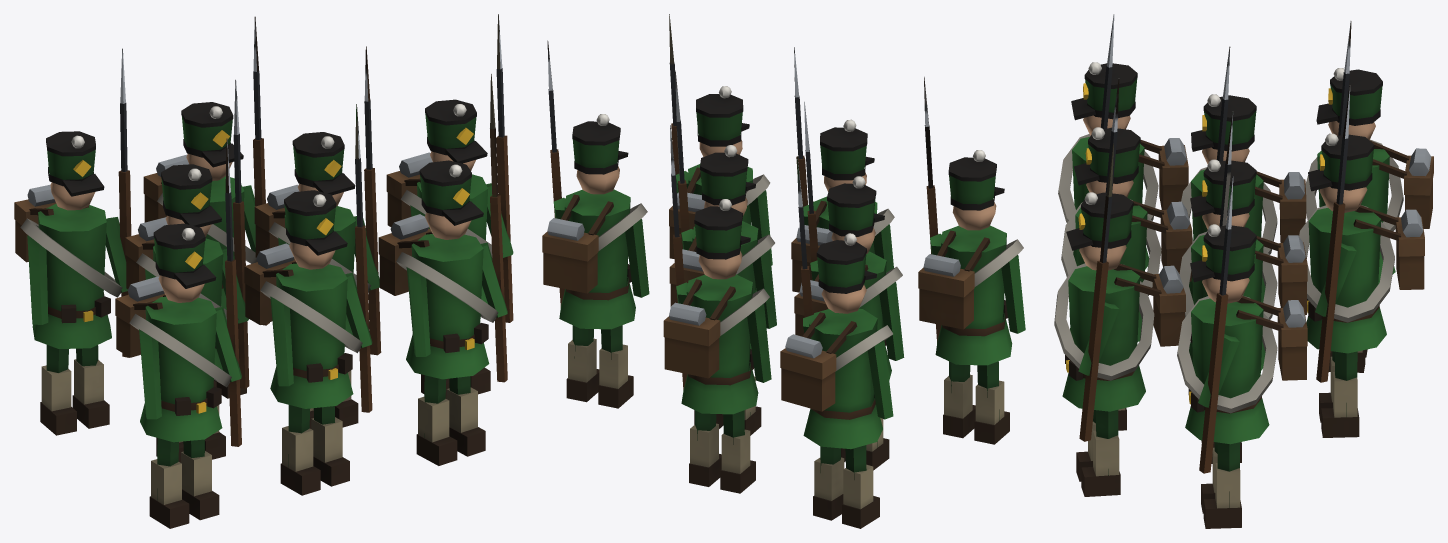
Rendered from squad_dl5_green.glb.
3 views of the same model, side by side, from view 1: azimuth 30°, elevation 25°; view 2: azimuth 150°, elevation 25°; view 3: azimuth 270°, elevation 25° (orthographic). The views are drawn at different scales.
Parts seen in each view (by area): view 1: squad_dl5_green; view 2: squad_dl5_green; view 3: squad_dl5_green.
Boxes of the visible parts, box(x1,y1,x2,y2) form: squad_dl5_green: box(14, 14, 513, 528); squad_dl5_green: box(542, 14, 1025, 528); squad_dl5_green: box(1054, 14, 1433, 528).
Bounding box in the file's own units: 0.6466 × 0.5225 × 0.4949.
1 material, 1 textured.
